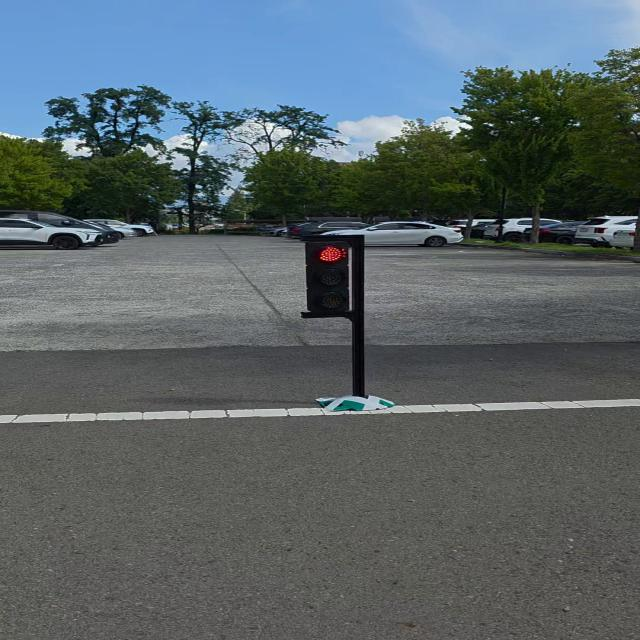red: (288, 232, 371, 324)
